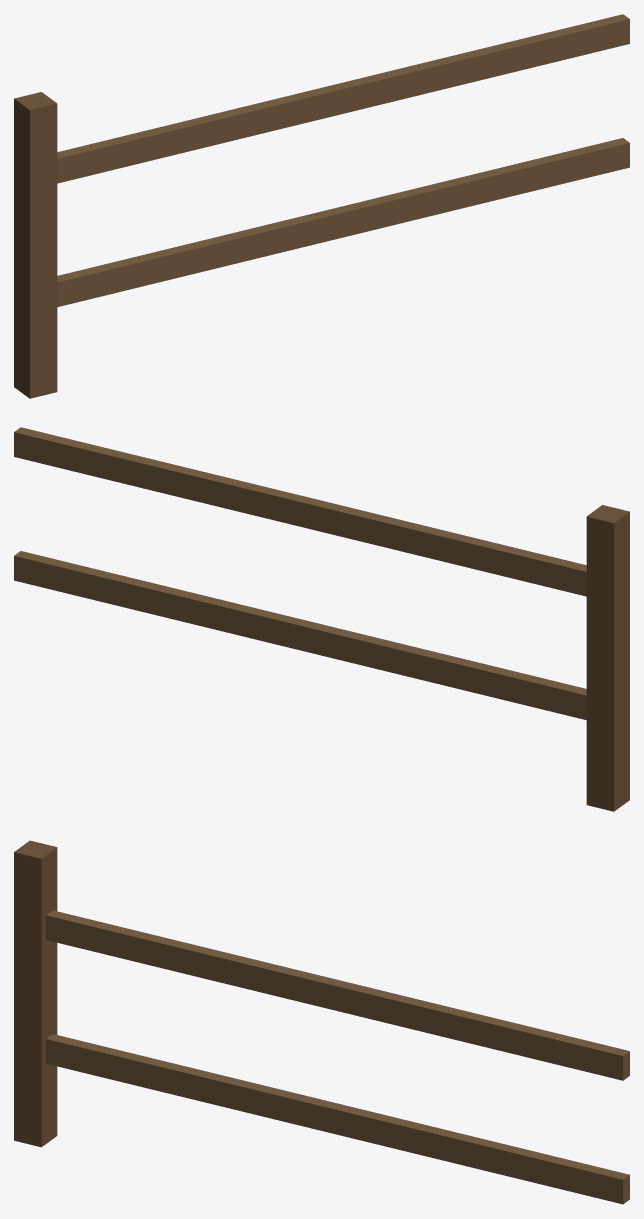
File: Fence_wood.fbx
3 renders of one model, top to bottom at view 1: azimuth 30°, elevation 25°; view 2: azimuth 150°, elevation 25°; view 3: azimuth 330°, elevation 25°, orthographic.
Parts seen in each view (by area): view 1: Rail1, Rail0, Post; view 2: Rail1, Rail0, Post; view 3: Rail0, Rail1, Post.
Boxes of the visible parts, left/top/right/bottom form: Rail1: left=57, top=14, right=629, bottom=183; Rail0: left=57, top=138, right=629, bottom=307; Post: left=14, top=92, right=57, bottom=398; Rail1: left=14, top=427, right=586, bottom=596; Rail0: left=14, top=551, right=586, bottom=720; Post: left=586, top=505, right=629, bottom=811; Rail0: left=46, top=1034, right=629, bottom=1204; Rail1: left=46, top=910, right=629, bottom=1080; Post: left=14, top=840, right=57, bottom=1147.
Size of the model in its own units: 307 by 14 by 140.
